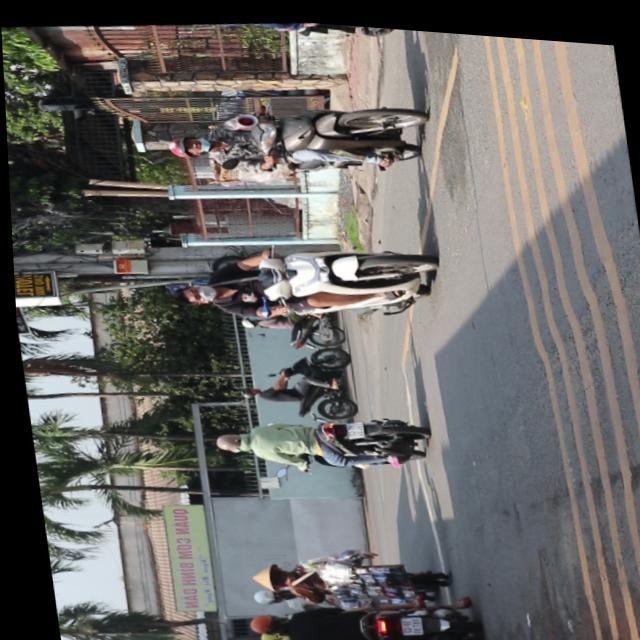helmet: (163, 128, 210, 157), (238, 607, 279, 633), (206, 426, 241, 450), (250, 627, 279, 640)
licenseplate: (157, 221, 443, 341), (157, 77, 433, 192), (203, 394, 426, 480), (235, 577, 478, 640), (135, 8, 439, 58)
motorcyclist: (165, 278, 212, 305)
nohelmet: (392, 609, 415, 630), (339, 416, 358, 433)
